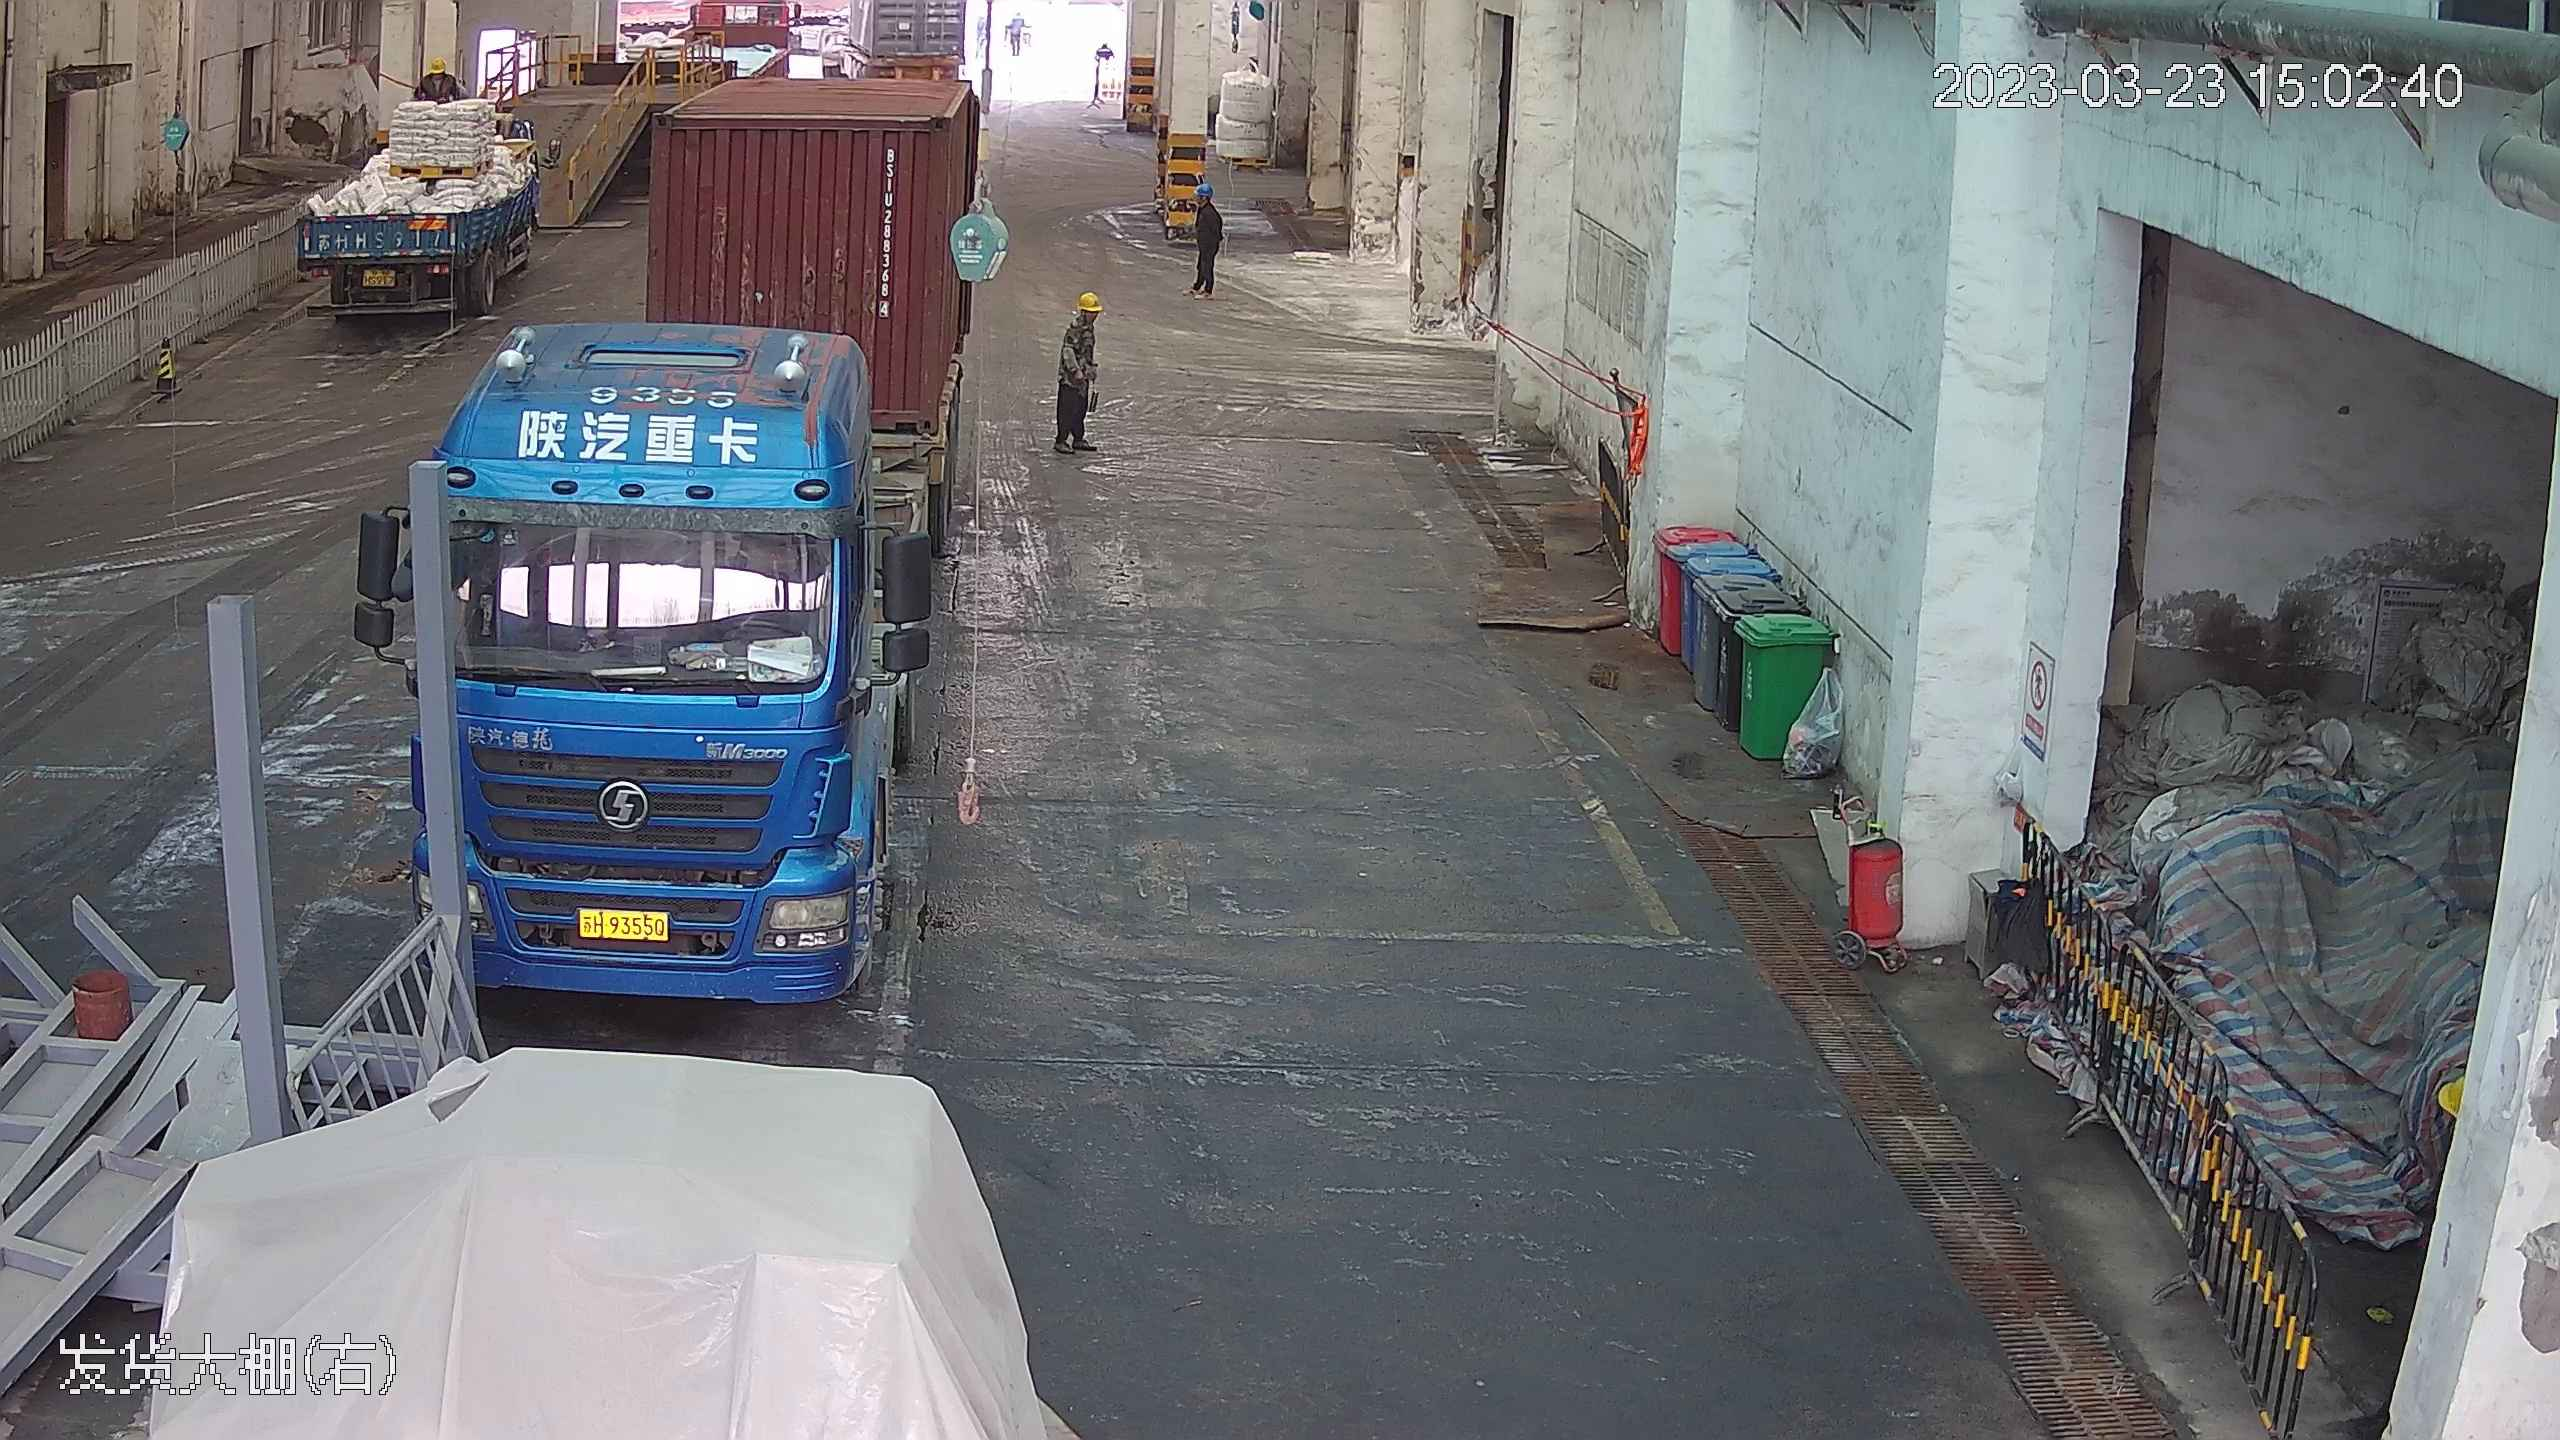head: (1060, 289, 1106, 346), (417, 51, 459, 101), (1187, 172, 1226, 220)
helmet: (1074, 288, 1102, 312), (428, 57, 447, 75), (1193, 182, 1215, 198)
people: (1045, 288, 1107, 457), (1183, 172, 1229, 299)
truck: (403, 9, 999, 995), (282, 42, 555, 327)
